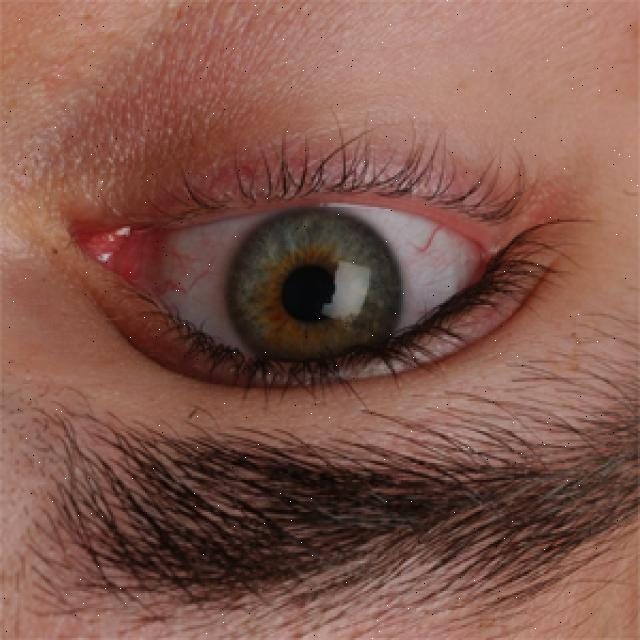Normal: (223, 197, 406, 386)
